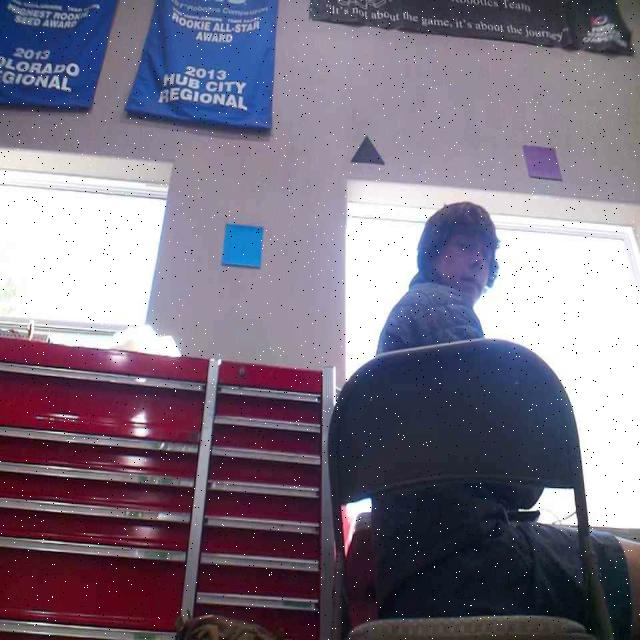square_blue: (219, 223, 265, 269)
square_purple: (522, 143, 562, 182)
triangle_black: (351, 134, 385, 164)
